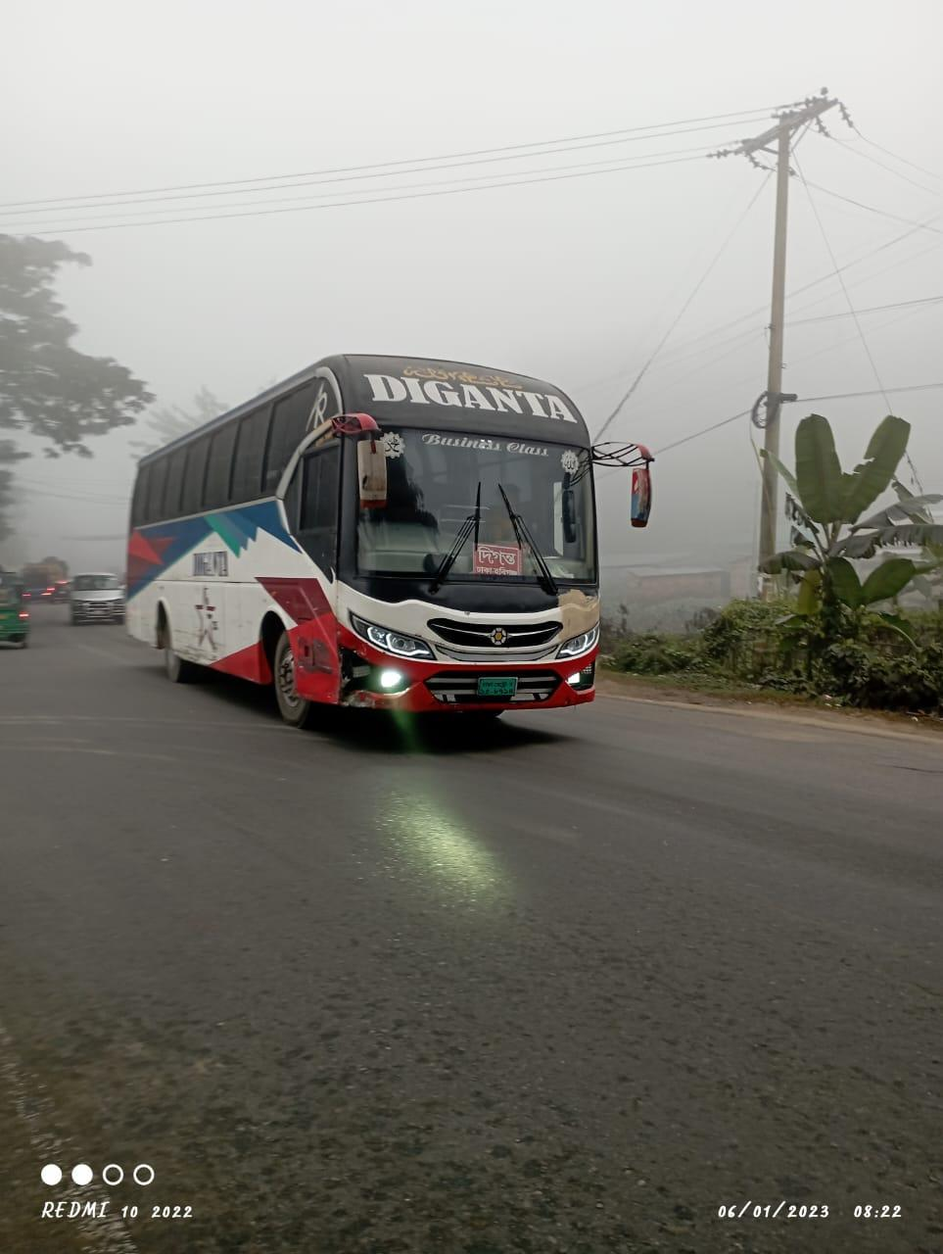Bus: (125, 350, 662, 751)
Car: (63, 565, 137, 627)
